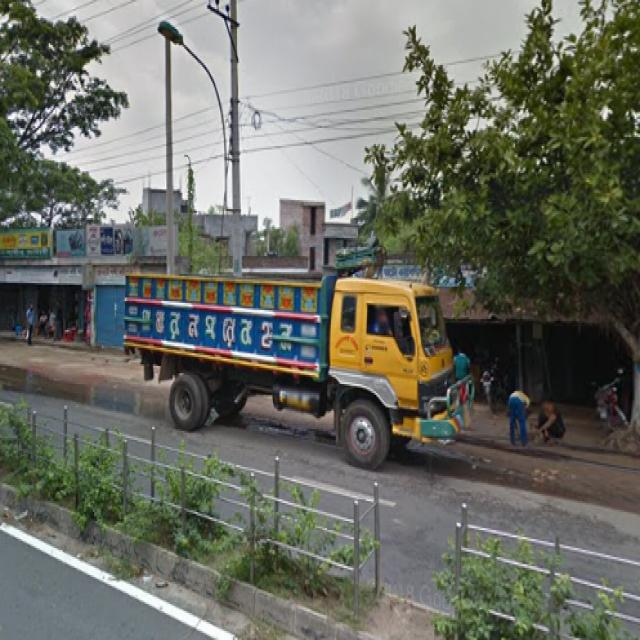truck: (122, 240, 475, 469)
